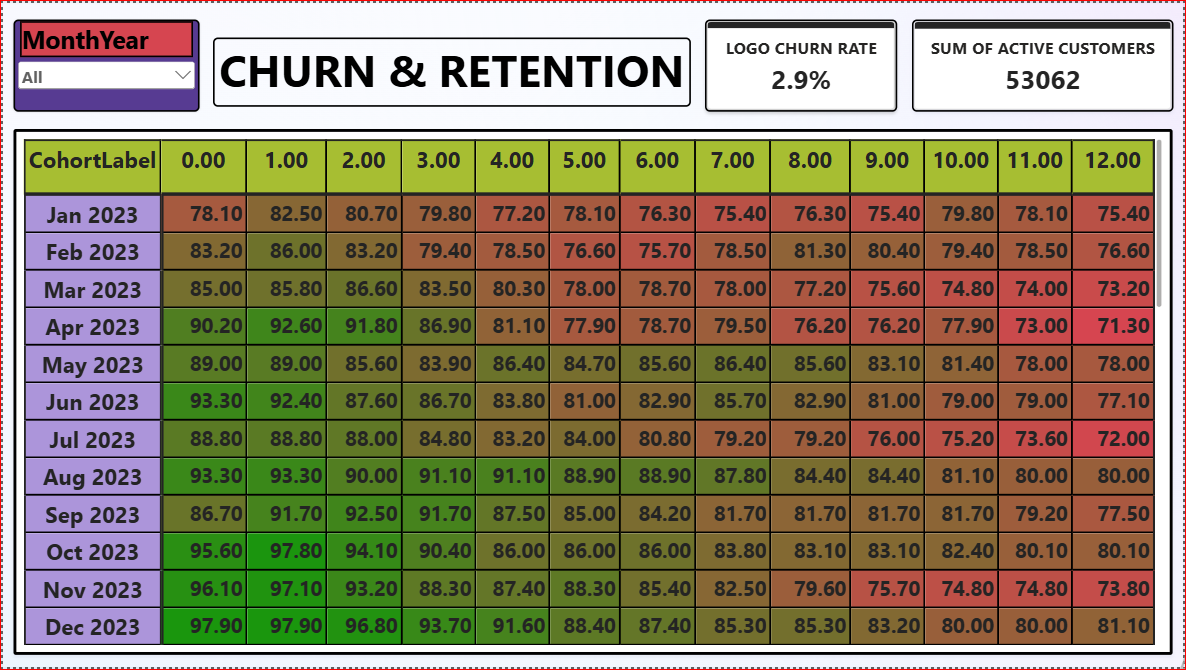

What the dashboard file says about the page in this screenshot:
{"tool":"powerbi","page":{"name":"Churn & Retention","canvas":[1920,1080],"ordinal":2},"visuals":[{"type":"pivotTable","fields":{"Columns":["fact_cohort_retention.months_since_signup"],"Rows":["fact_cohort_retention.CohortLabel"],"Values":["Avg(fact_cohort_retention.retention_pct)"]},"box":[0,205,1920,875],"z":0},{"type":"cardVisual","fields":{"Data":["Sum(fact_churn_by_month.active_customers)"]},"box":[1572.5,42.5,287.5,150],"z":1000},{"type":"cardVisual","fields":{"Data":["fact_churn_by_month.Logo Churn Rate"]},"box":[1262.5,42.5,287.5,150],"z":2000},{"type":"slicer","fields":{"Values":["DimDate.MonthYear"]},"box":[55,52.5,320,130],"z":3000}]}

Visuals, with their boxes in screenshot pixels (x1, y1, x2, y2), scaled from the page's 1920x1080 canvas onto the 1186x670 screenshot:
pivotTable - fact_cohort_retention.months_since_signup x fact_cohort_retention.CohortLabel: (left=0, top=127, right=1185, bottom=669)
cardVisual - Sum(fact_churn_by_month.active_customers): (left=971, top=26, right=1149, bottom=119)
cardVisual - fact_churn_by_month.Logo Churn Rate: (left=780, top=26, right=957, bottom=119)
slicer - DimDate.MonthYear: (left=34, top=33, right=232, bottom=113)
